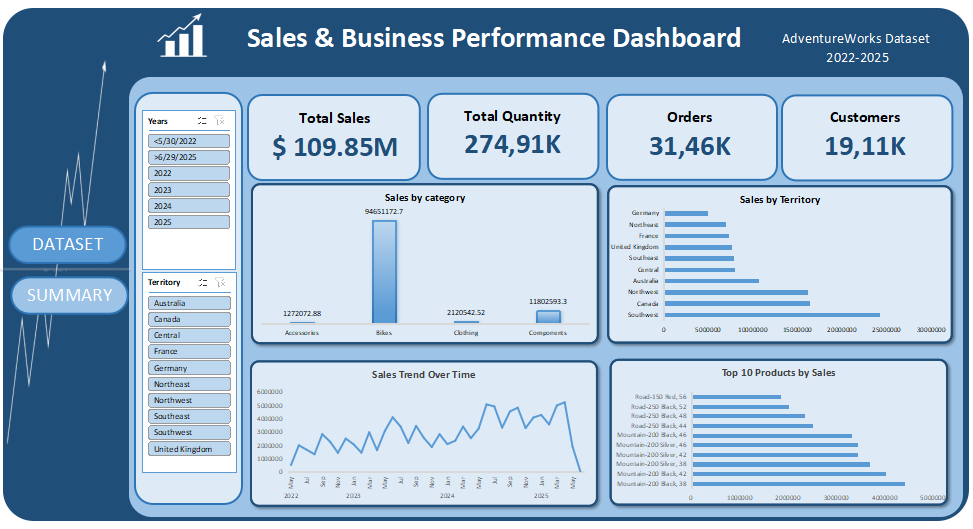

Layout of this report page (visuals, bound fields, positions):
{"tool":"powerbi","page":{"name":"Page 1","canvas":[1920,1080],"ordinal":0},"visuals":[{"type":"card","fields":{"Values":["Sales_Business_Project.Total Sales"]},"box":[240,112.5,355,142.5],"z":1000},{"type":"card","fields":{"Values":["Sales_Business_Project.Total Quantity"]},"box":[1100,115,355,142.5],"z":2000},{"type":"card","fields":{"Values":["Sales_Business_Project.Number of Orders"]},"box":[627.5,112.5,355,142.5],"z":3000},{"type":"card","fields":{"Values":["Sales_Business_Project.Number of Customers"]},"box":[1485,112.5,355,142.5],"z":4000},{"type":"clusteredColumnChart","fields":{"Category":["Sales_Business_Project.Category"],"Y":["Sales_Business_Project.Total Sales"]},"box":[240,715,742.5,345],"z":5000},{"type":"clusteredBarChart","fields":{"Category":["Sales_Business_Project.Territory"],"Y":["Sales_Business_Project.Total Sales"]},"box":[240,277.5,742.5,420],"z":6000},{"type":"lineChart","title":"Sales Trend","fields":{"Category":["Sales_Business_Project.OrderDate.Variation.Date Hierarchy.Year","Sales_Business_Project.OrderDate.Variation.Date Hierarchy.Month"],"Y":["Sales_Business_Project.Total Sales"]},"box":[1100,715,742,345],"z":7000},{"type":"clusteredBarChart","title":"Top 10 Products","fields":{"Category":["Sales_Business_Project.ProductName"],"Y":["Sales_Business_Project.Total Sales"]},"box":[1100,277.5,742,420],"z":8000},{"type":"textbox","box":[16.7,16.7,1340.9,74],"z":8001},{"type":"image","box":[0,17.5,165,72.5],"z":8002},{"type":"slicer","fields":{"Values":["Sales_Business_Project.Territory"]},"box":[1375,17.5,252.5,72.5],"z":8003},{"type":"slicer","fields":{"Values":["Sales_Business_Project.Category"]},"box":[1645,17.5,252.5,72.5],"z":8004},{"type":"slicer","fields":{"Values":["Sales_Business_Project.OrderDate.Variation.Date Hierarchy.Month"]},"box":[17.5,380,165,680],"z":8005},{"type":"slicer","fields":{"Values":["Sales_Business_Project.OrderDate.Variation.Date Hierarchy.Year"]},"box":[17.5,100,165,255],"z":8006},{"type":"image","box":[595,107.5,127.5,152.5],"z":8007},{"type":"image","box":[1122.5,115,72.5,140],"z":8008},{"type":"image","box":[1485,102.5,107.5,155],"z":8009},{"type":"image","box":[240,102.5,90,175],"z":8010}]}

Visuals, with their boxes on the page's 1920x1080 design canvas (x1, y1, x2, y2). These are canvas units, not pixel positions in the 973x529 screenshot, which may show the page scaled, cropped or inside an application window:
card - Sales_Business_Project.Total Sales: 240, 112, 595, 255
card - Sales_Business_Project.Total Quantity: 1100, 115, 1455, 258
card - Sales_Business_Project.Number of Orders: 628, 112, 982, 255
card - Sales_Business_Project.Number of Customers: 1485, 112, 1840, 255
clusteredColumnChart - Sales_Business_Project.Category x Sales_Business_Project.Total Sales: 240, 715, 982, 1060
clusteredBarChart - Sales_Business_Project.Territory x Sales_Business_Project.Total Sales: 240, 278, 982, 698
"Sales Trend" lineChart: 1100, 715, 1842, 1060
"Top 10 Products" clusteredBarChart: 1100, 278, 1842, 698
textbox: 17, 17, 1358, 91
image: 0, 18, 165, 90
slicer - Sales_Business_Project.Territory: 1375, 18, 1628, 90
slicer - Sales_Business_Project.Category: 1645, 18, 1898, 90
slicer - Sales_Business_Project.OrderDate.Variation.Date Hierarchy.Month: 18, 380, 182, 1060
slicer - Sales_Business_Project.OrderDate.Variation.Date Hierarchy.Year: 18, 100, 182, 355
image: 595, 108, 722, 260
image: 1122, 115, 1195, 255
image: 1485, 102, 1592, 258
image: 240, 102, 330, 278
